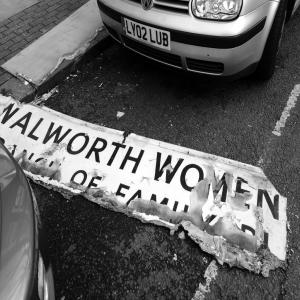Vehicle-registration-plate: (123, 18, 171, 51)
